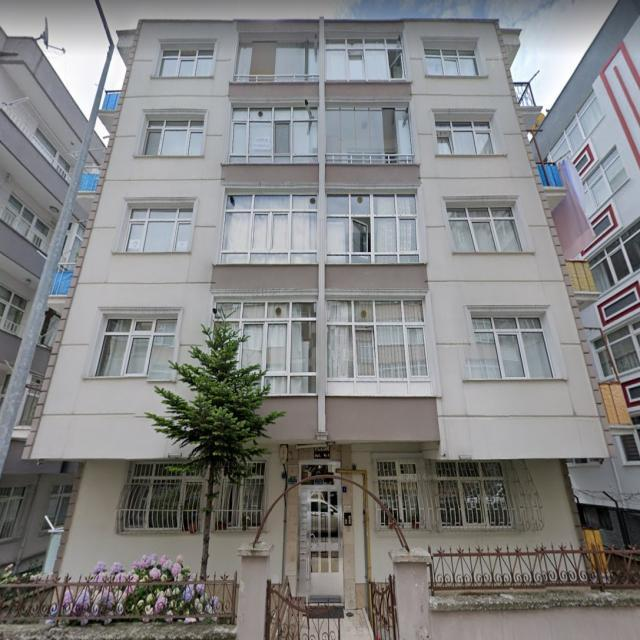Building: (21, 17, 614, 617)
